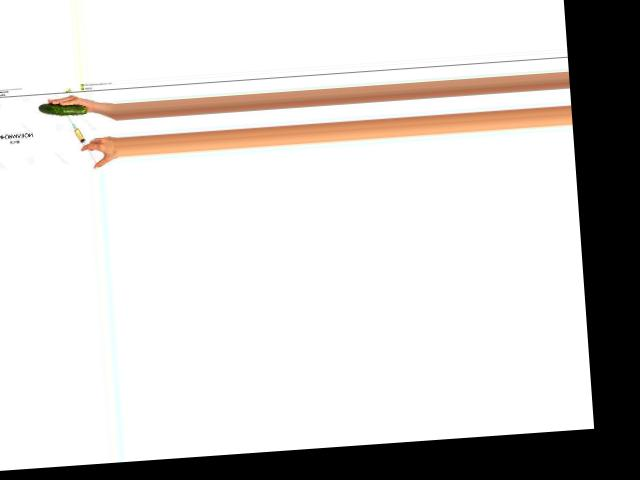cucumber: (38, 100, 87, 117)
